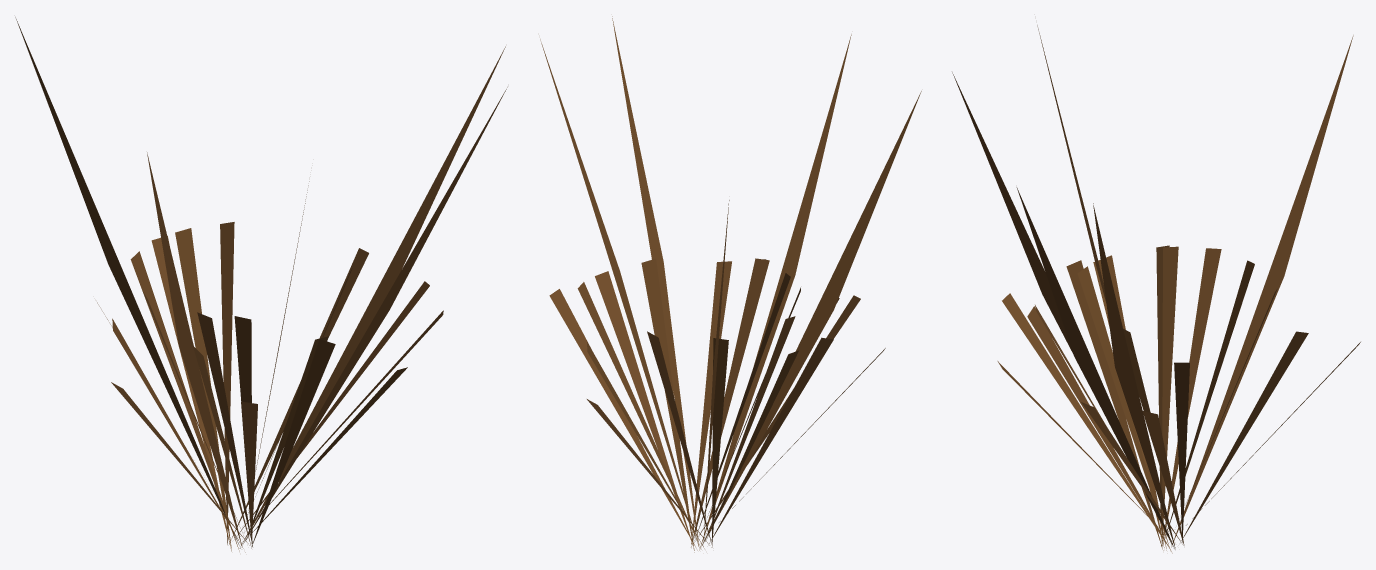
Rendered from DryBush_LOD2.fbx.
3 views of the same model, side by side, from view 1: azimuth 30°, elevation 25°; view 2: azimuth 150°, elevation 25°; view 3: azimuth 270°, elevation 25° (orthographic). The views are drawn at different scales.
Visible parts, largest first — view 1: DryBush_LOD2; view 2: DryBush_LOD2; view 3: DryBush_LOD2.
Boxes of the visible parts, left/top/right/bottom form: DryBush_LOD2: left=15, top=17, right=507, bottom=552; DryBush_LOD2: left=540, top=16, right=921, bottom=552; DryBush_LOD2: left=952, top=25, right=1360, bottom=553.
Bounding box in the file's own units: 61.3 × 75.85 × 62.63.
